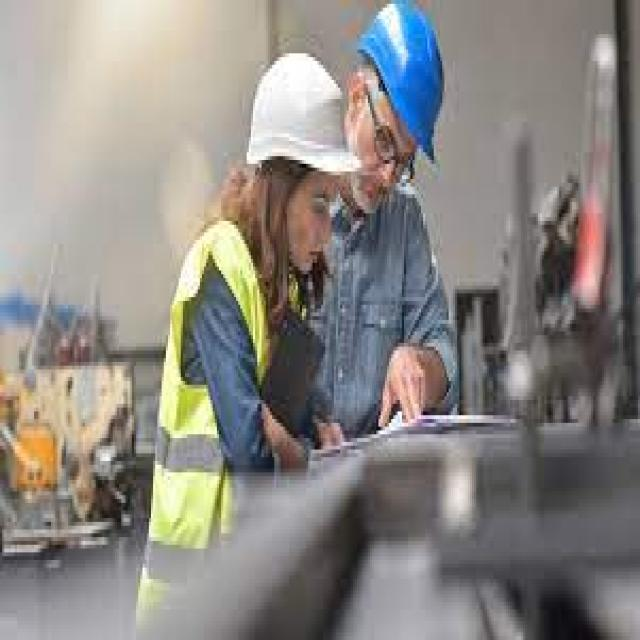Reflective-Jacket: (128, 210, 291, 598)
Safety-Helmet: (236, 42, 359, 198), (353, 4, 455, 183)
